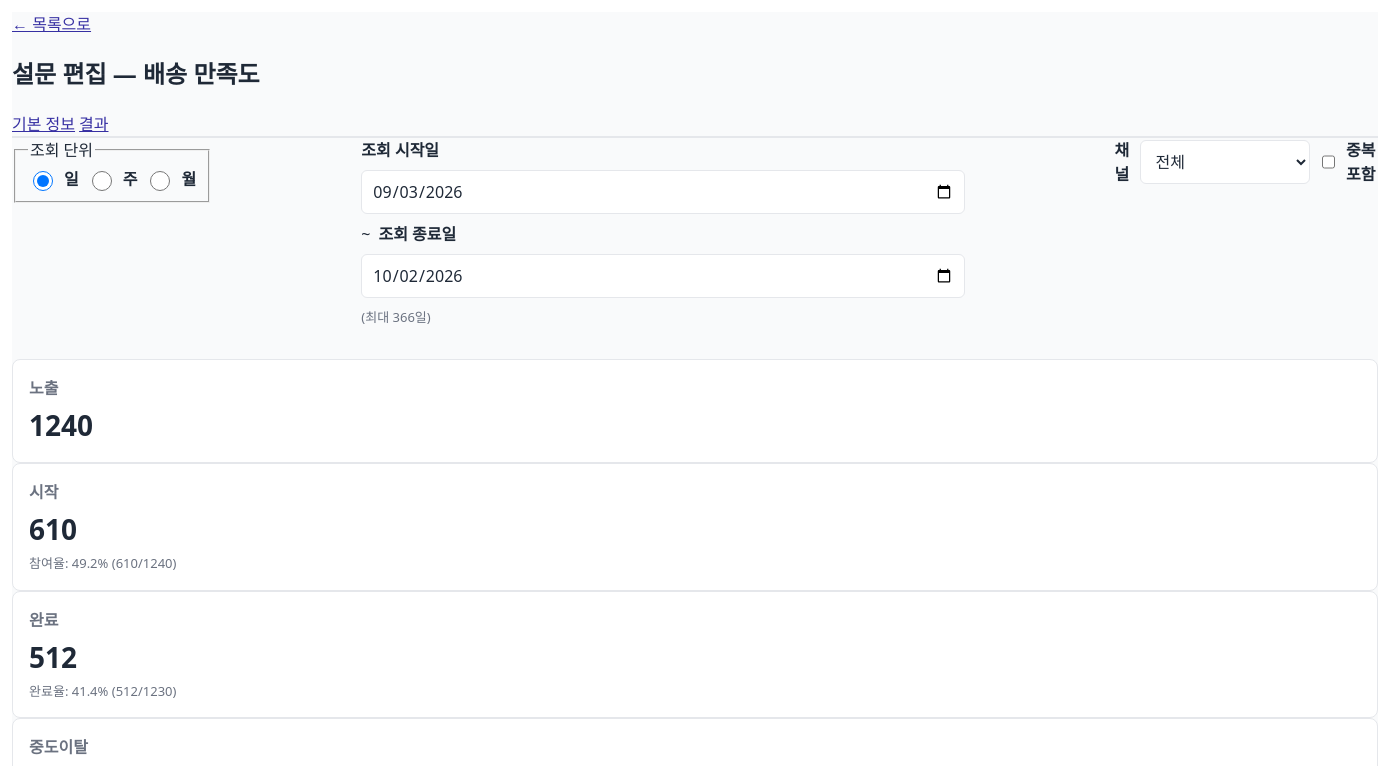
Test: SurveyResultsPage › 조회 기간이 366일을 넘으면 인라인 오류를 보여주고 요약을 요청하지 않는다
Expected: the text "1240" is shown, [29,406,93,444]
Type "2025-01-01" into the date field labelled "조회 시작일". click: (663, 192)
box: [361,170,965,214]
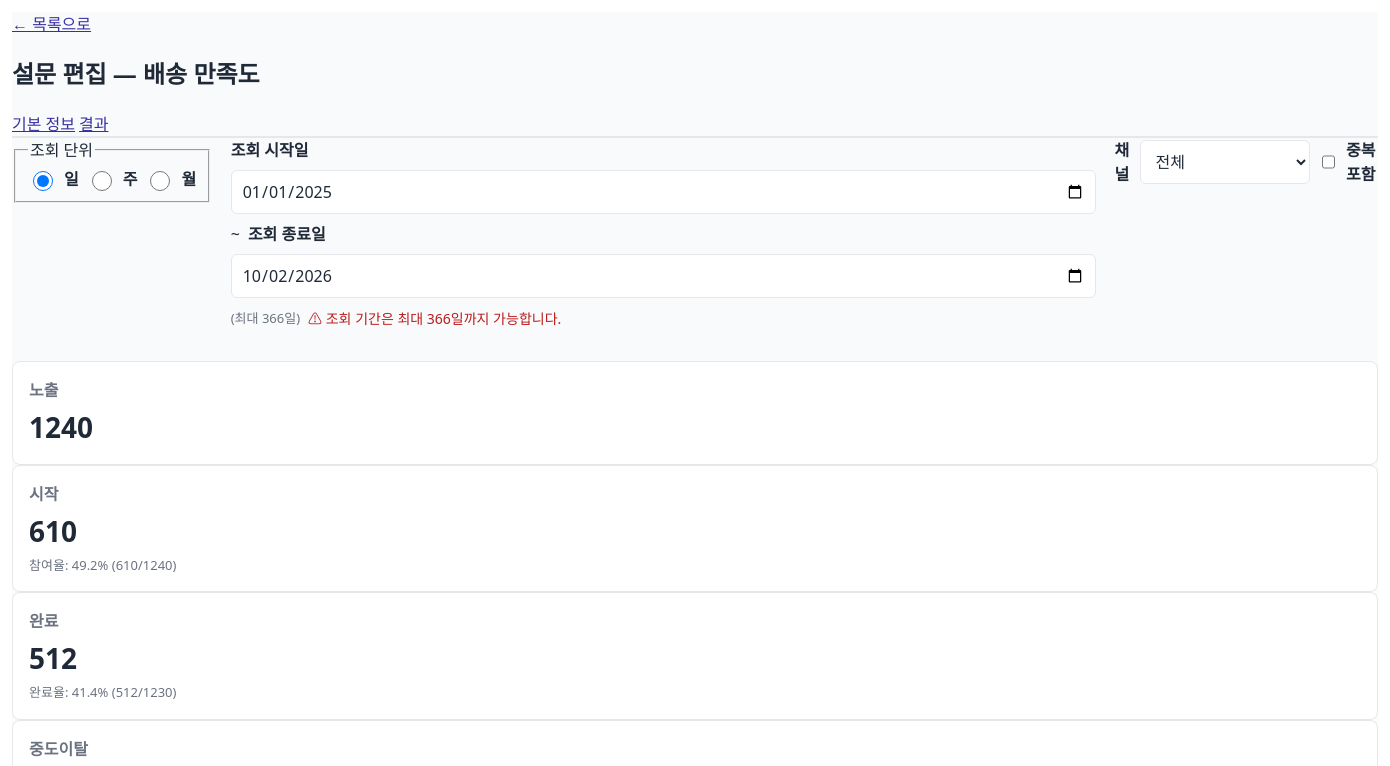
Result: the text "조회 기간은 최대 366일까지 가능합니다." is shown at [326,309,561,328]
